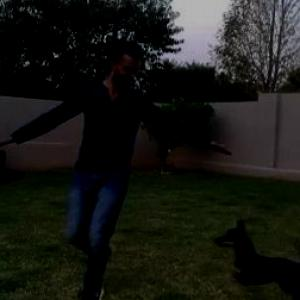land: (12, 42, 227, 280)
